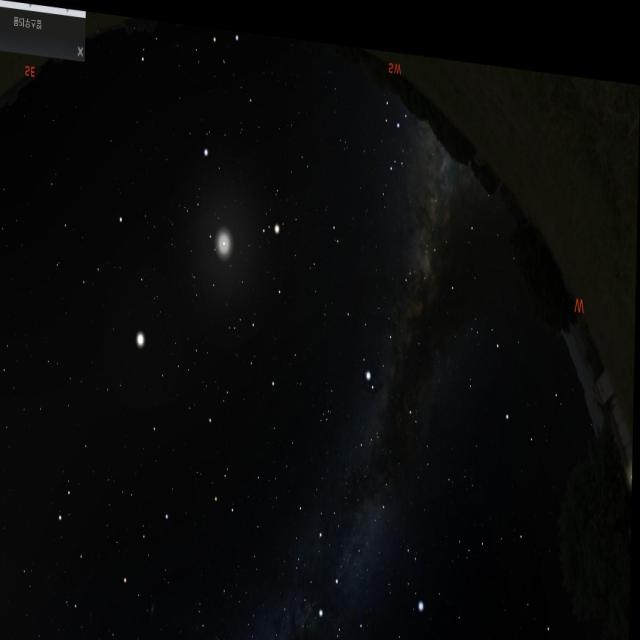aquila: (340, 243, 422, 387)
cygnus: (317, 479, 392, 625)
lyra: (394, 519, 435, 602)
moon: (205, 197, 251, 275)
